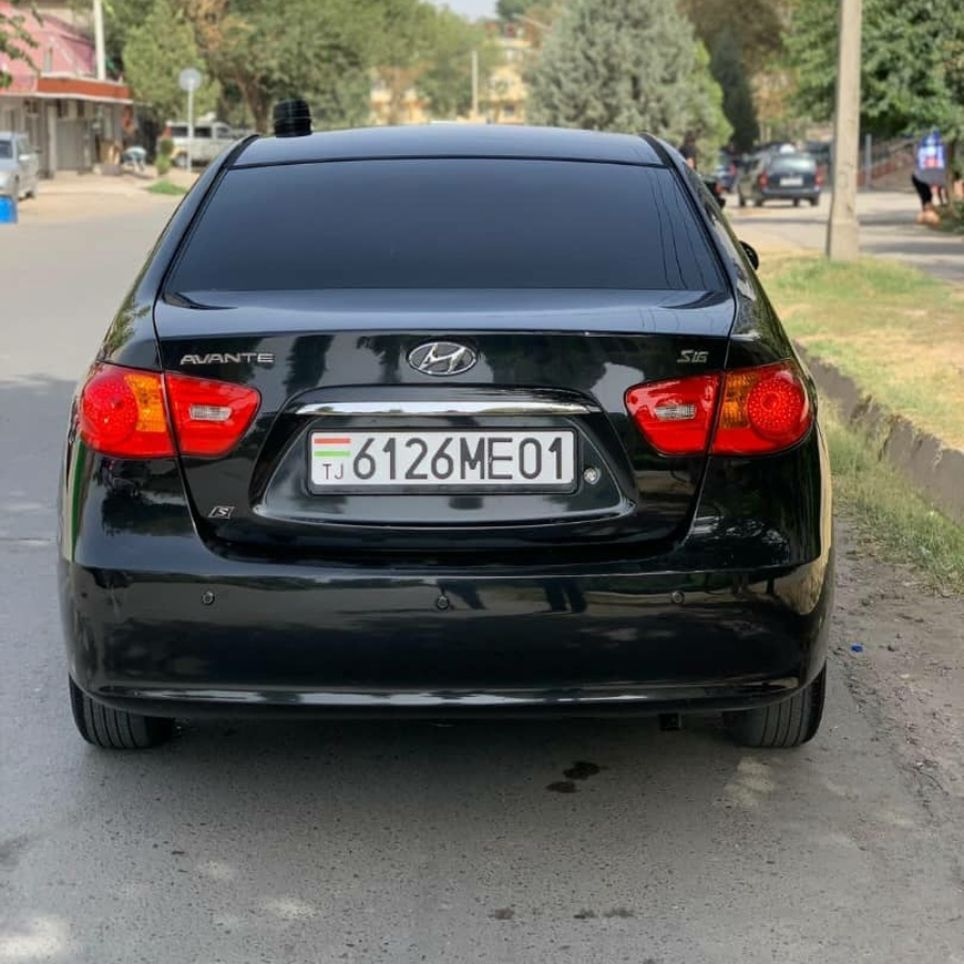license plate: (304, 428, 574, 489)
truck: (54, 118, 838, 766)
